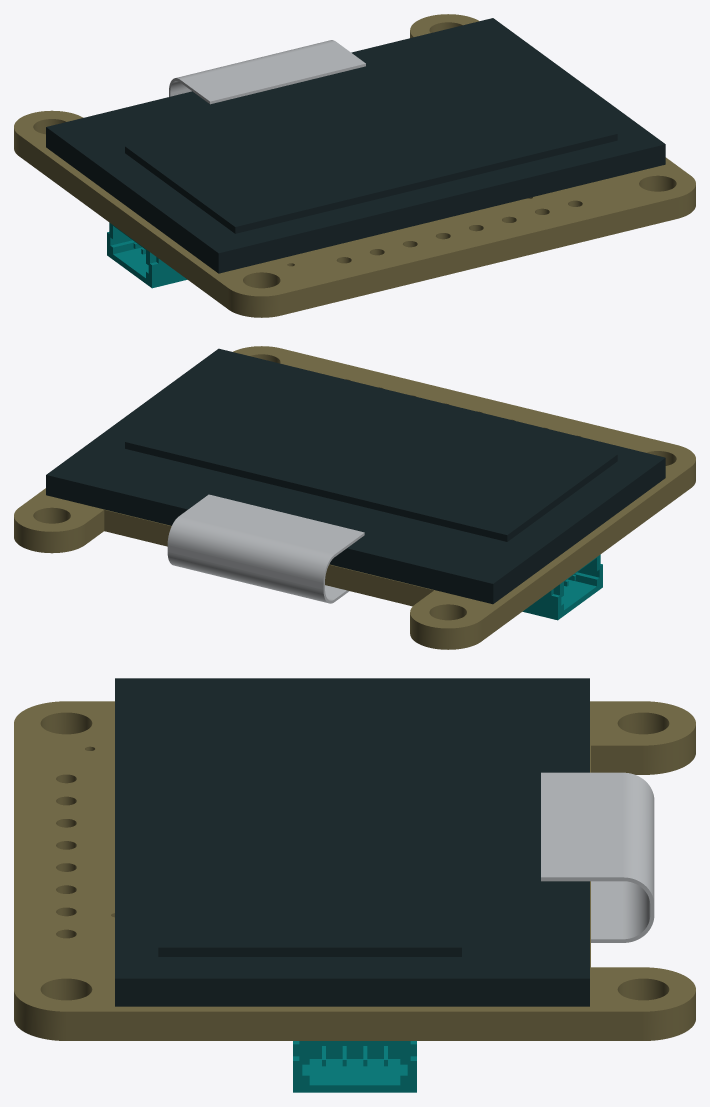
The model's file is oled-938.glb.
The picture shows the model from 3 angles, top to bottom: view 1: azimuth 30°, elevation 25°; view 2: azimuth 150°, elevation 25°; view 3: azimuth 270°, elevation 25°; orthographic projection. The views are drawn at different scales.
Parts seen in each view (by area): view 1: oled-938 / Imported CAD; view 2: oled-938 / Imported CAD; view 3: oled-938 / Imported CAD.
Boxes of the visible parts, x1=… form: oled-938 / Imported CAD: x1=14, y1=14, x2=695, y2=317; oled-938 / Imported CAD: x1=14, y1=346, x2=695, y2=649; oled-938 / Imported CAD: x1=14, y1=678, x2=695, y2=1092.
Size of the model in its own units: 35.56 by 6.53 by 33.02.
